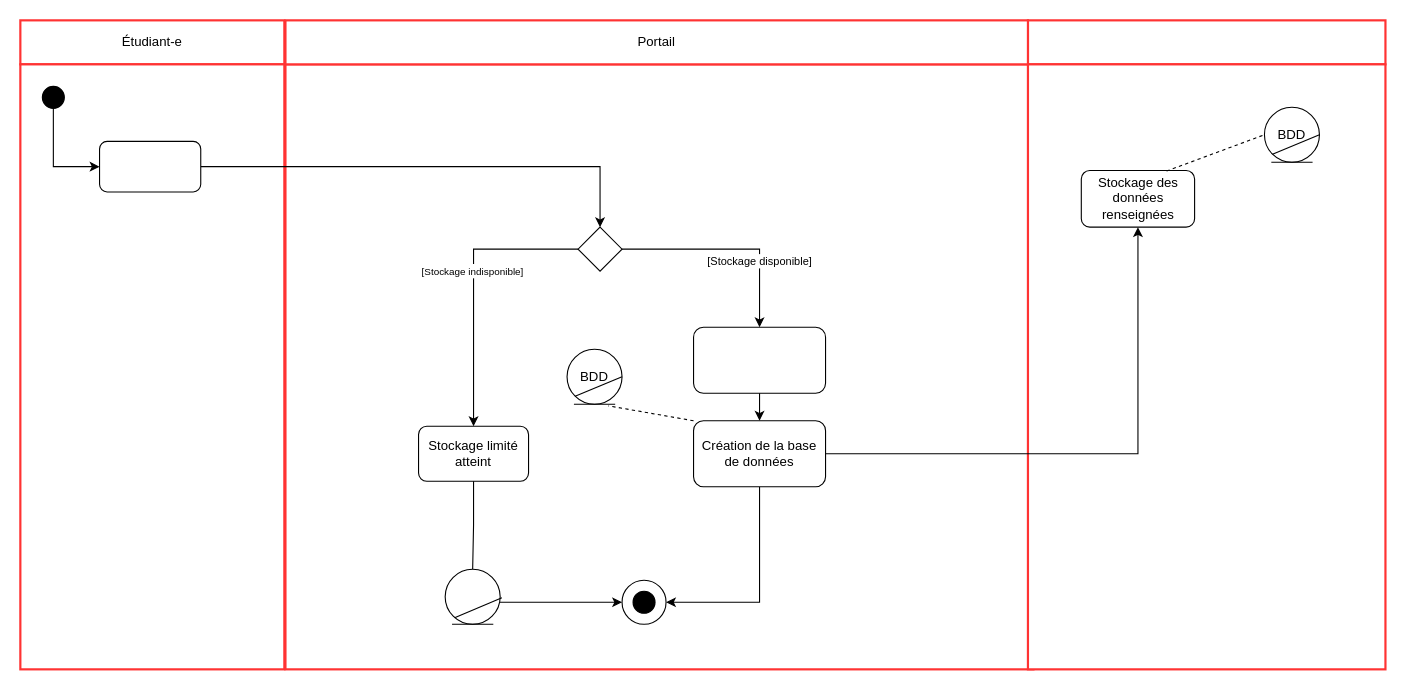
Image size: 1405x689. Some labels were removed from this diagram. The box of each missing label's shape, as (x1, y1, x2, y2) in pixels:
Choix des caractéristiques de la base de données: (692, 326, 826, 393)
Créer une base de données: (98, 140, 201, 192)
NAS: (1026, 19, 1386, 65)
Tâches: (444, 568, 500, 624)
